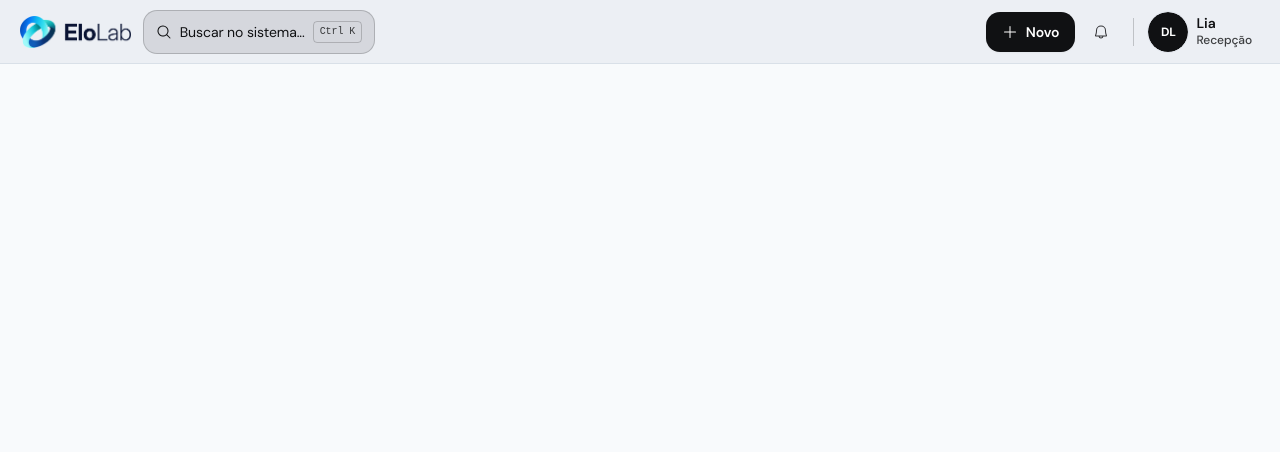
consultas de notificações da Navbar › informa a falha em vez de mostrar listas vazias
Click the button named "Abrir notificações" at coordinates (1102, 32), box [1080,10,1124,54]
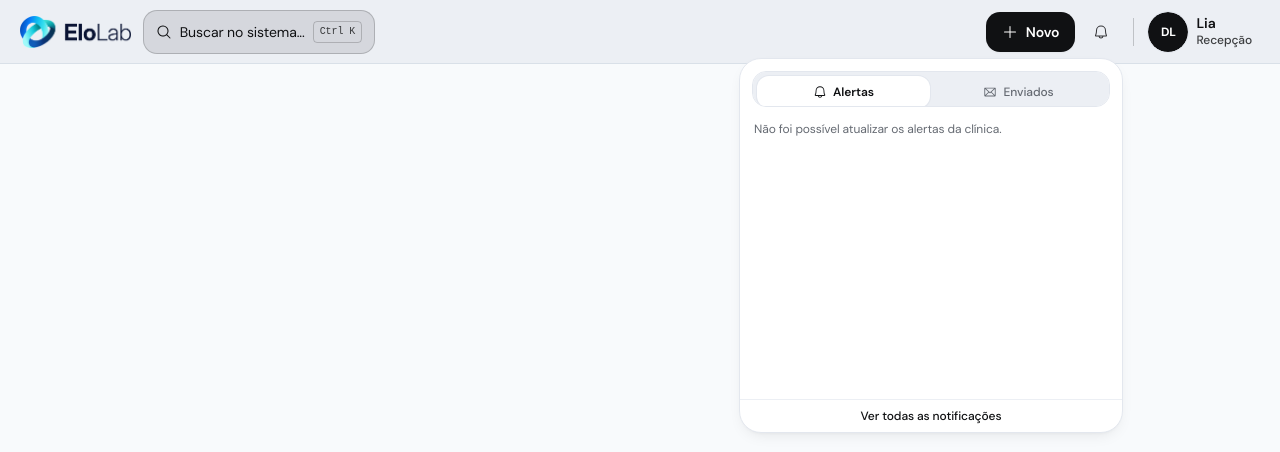
Check: the text "Não foi possível atualizar os alertas da clínica." is shown, box [754,121,1001,137]
Click the tab "Enviados" at coordinates (1018, 92), box [932,76,1105,108]
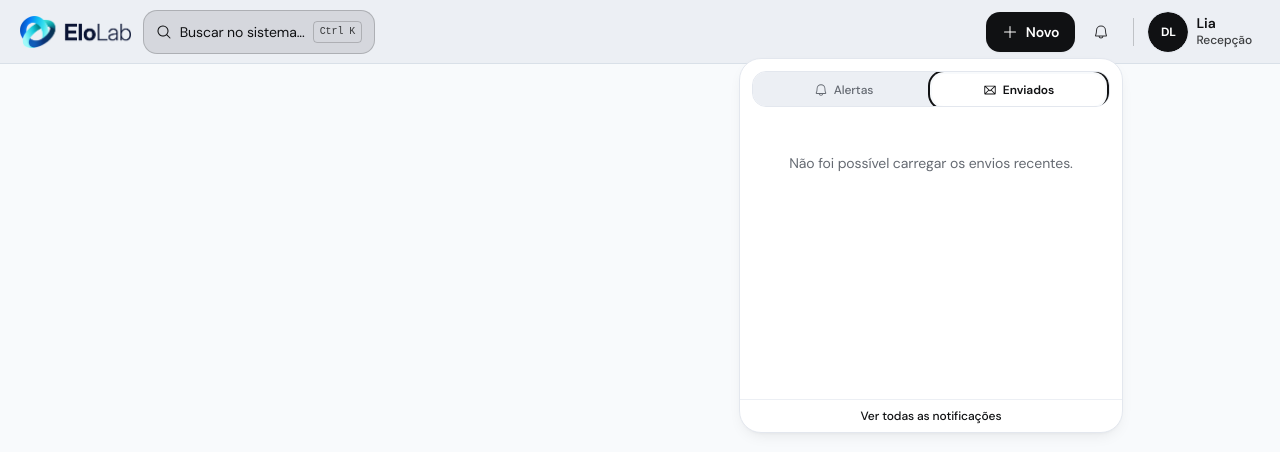
Check: the text "Não foi possível carregar os envios recentes." is shown, box [789,154,1073,172]
